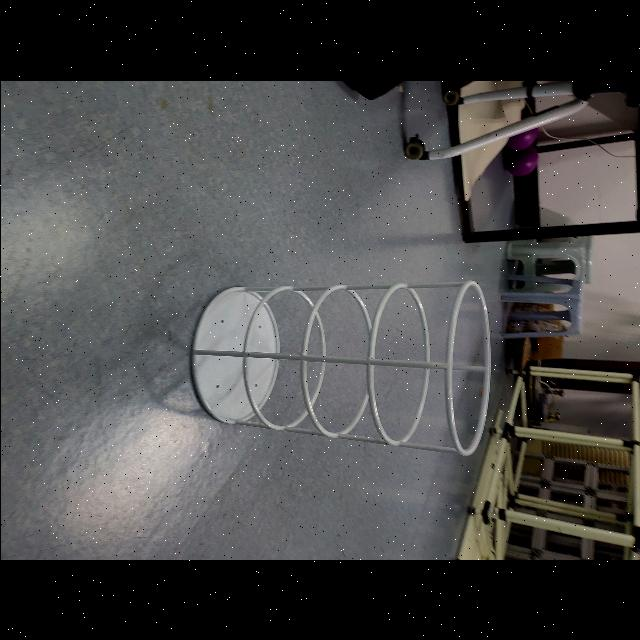S: (185, 277, 492, 458)
